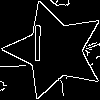I: (30, 25, 45, 71)
